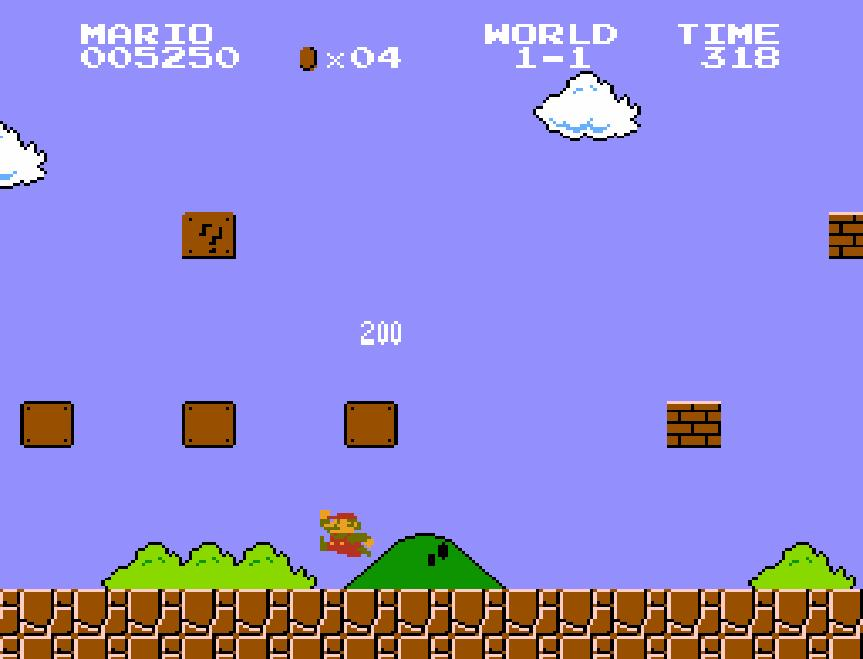little_mario: (318, 508, 376, 558)
